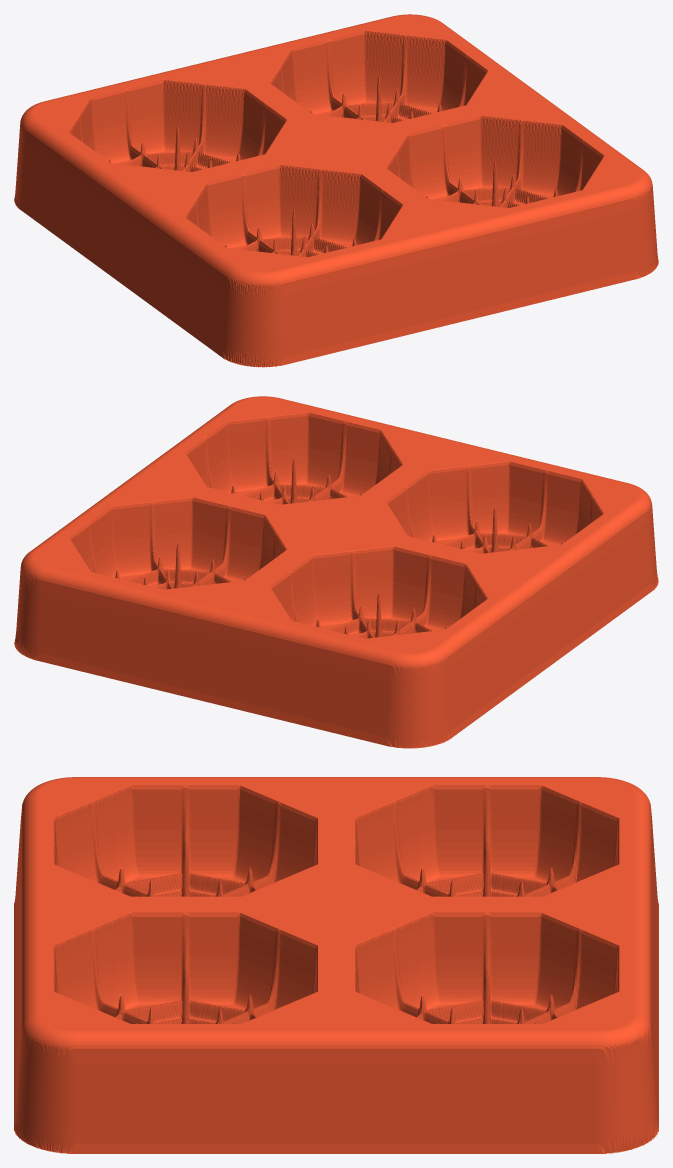
File: mold.glb
3 views of the same model, one above another, from view 1: azimuth 30°, elevation 25°; view 2: azimuth 150°, elevation 25°; view 3: azimuth 270°, elevation 25° (orthographic). The views are drawn at different scales.
Parts seen in each view (by area): view 1: geometry_0; view 2: geometry_0; view 3: geometry_0.
Boxes of the visible parts, <box> form: geometry_0: <box>14,14,658,367</box>; geometry_0: <box>14,396,658,748</box>; geometry_0: <box>14,777,658,1153</box>.
Bounding box in the file's own units: 0.0942 × 0.0182 × 0.0942.
